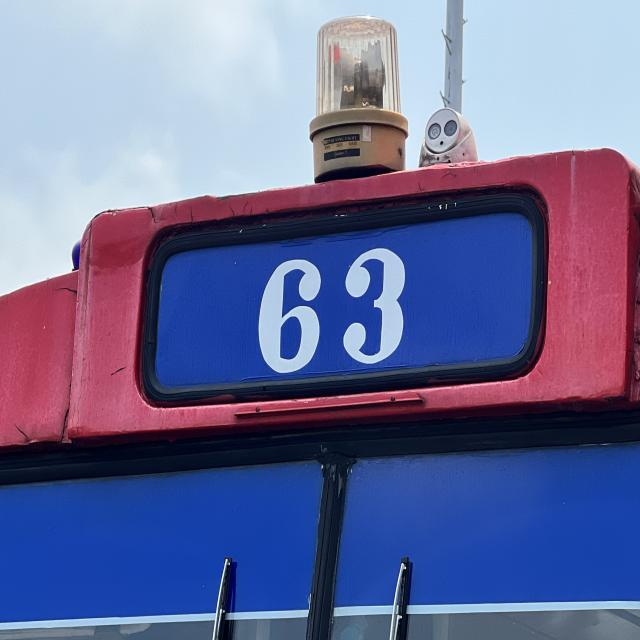BMTA-bus: (0, 13, 640, 640)
Bus-Line-Number: (137, 166, 559, 409)
